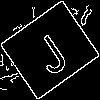J: (25, 25, 72, 78)
